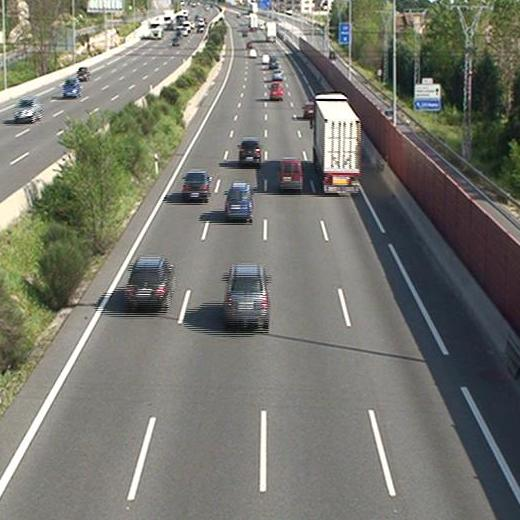car: (224, 265, 269, 319), (127, 258, 171, 303), (183, 172, 209, 198), (239, 140, 261, 163), (302, 103, 316, 119), (272, 69, 282, 80)
truck: (315, 95, 359, 192)
van: (224, 185, 253, 218), (279, 159, 303, 191), (269, 82, 283, 98)
